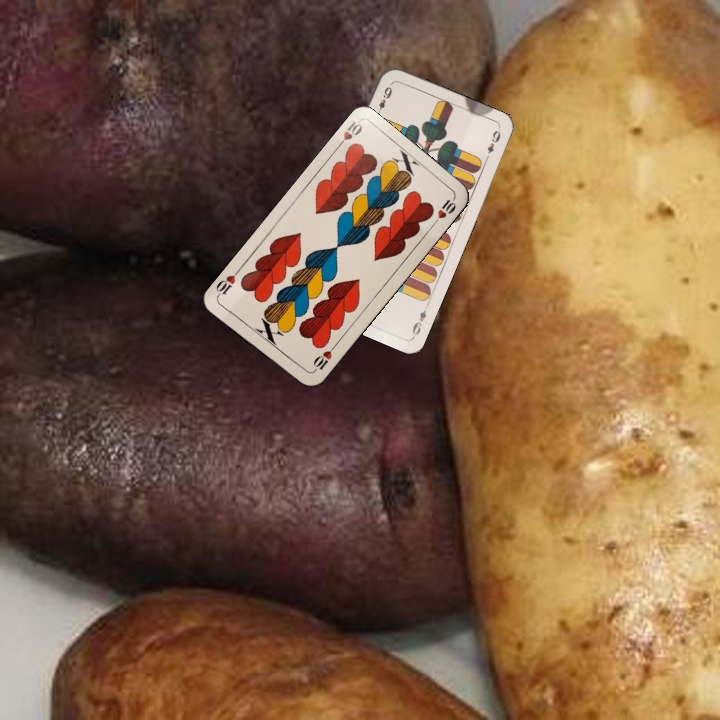E9: (372, 80, 395, 119), (408, 301, 431, 339)
H10: (332, 117, 365, 151), (308, 341, 338, 375)
